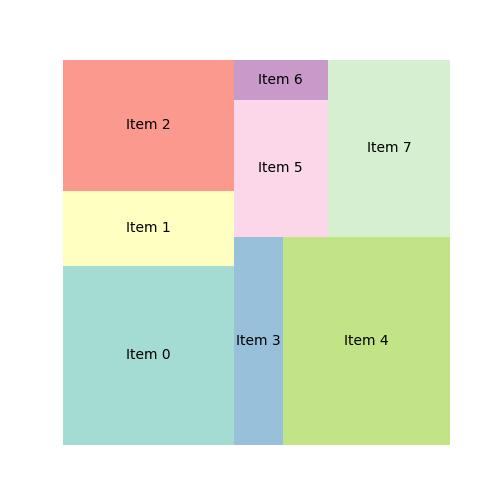rectangle: (283, 237, 450, 444), (63, 264, 236, 446), (63, 60, 235, 191), (327, 59, 450, 239), (63, 191, 235, 266), (235, 98, 326, 239), (234, 237, 283, 446), (235, 59, 329, 99)
